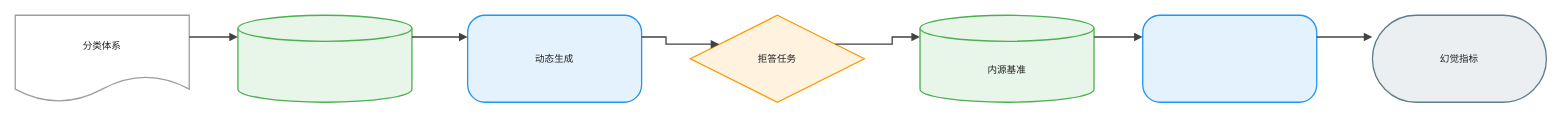
Some shapes in this 1563 by 118 pixel diagram are drawn without their labels. Here are the shapes that lost their labels. From the top down, the box of each, then its label:
(237, 14, 412, 102): Wiki任务
(1142, 14, 1317, 102): 模型推理
